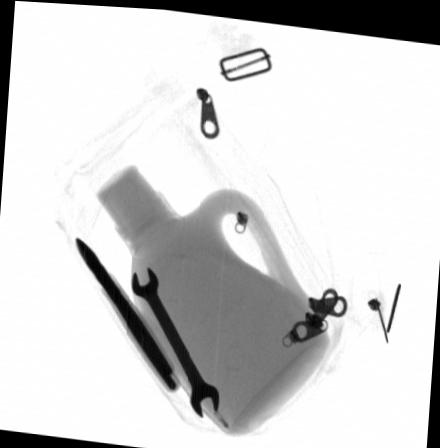Pliers: (73, 235, 177, 389)
Wrench: (130, 265, 219, 417)
